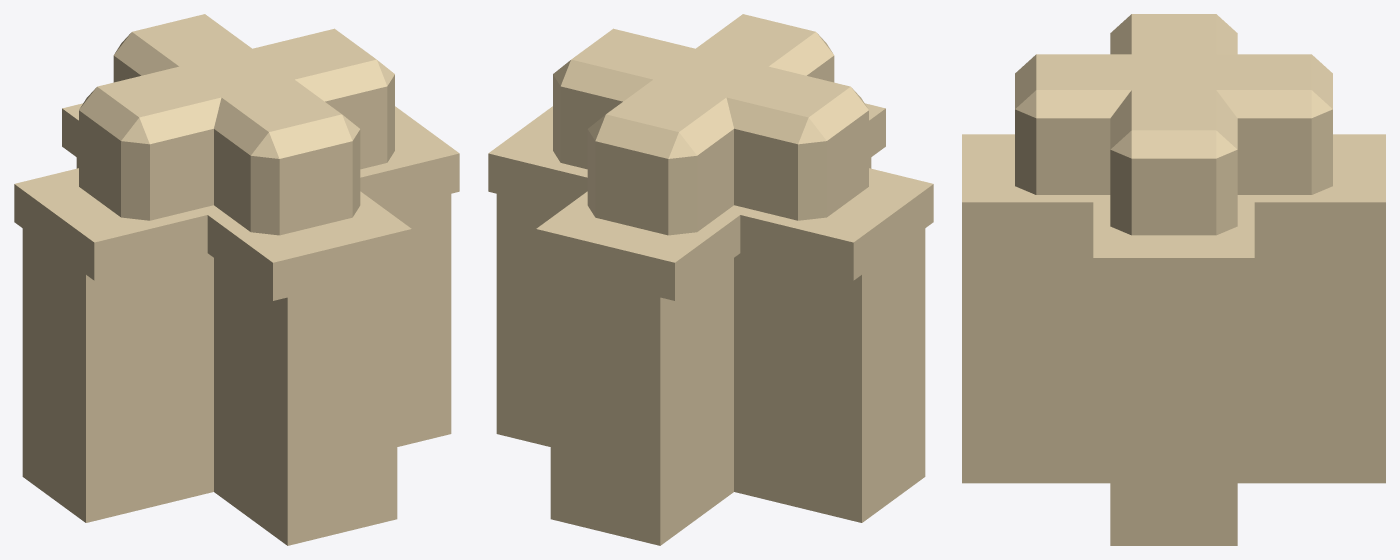
File: wall_cross_base.glb
The picture shows the model from 3 angles, left to right: view 1: azimuth 30°, elevation 25°; view 2: azimuth 150°, elevation 25°; view 3: azimuth 270°, elevation 25°; orthographic projection.
Visible parts, largest first — view 1: wall; view 2: wall; view 3: wall.
Boxes of the visible parts, x1=… form: wall: x1=14, y1=14, x2=459, y2=545; wall: x1=488, y1=14, x2=933, y2=545; wall: x1=962, y1=14, x2=1385, y2=545.
Bounding box in the file's own units: 1 × 1 × 1.
